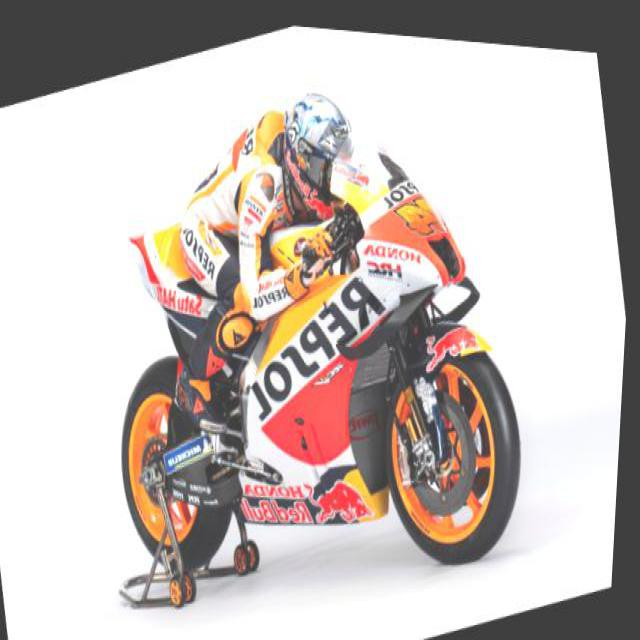HRC RCV 213: (72, 54, 560, 639)
